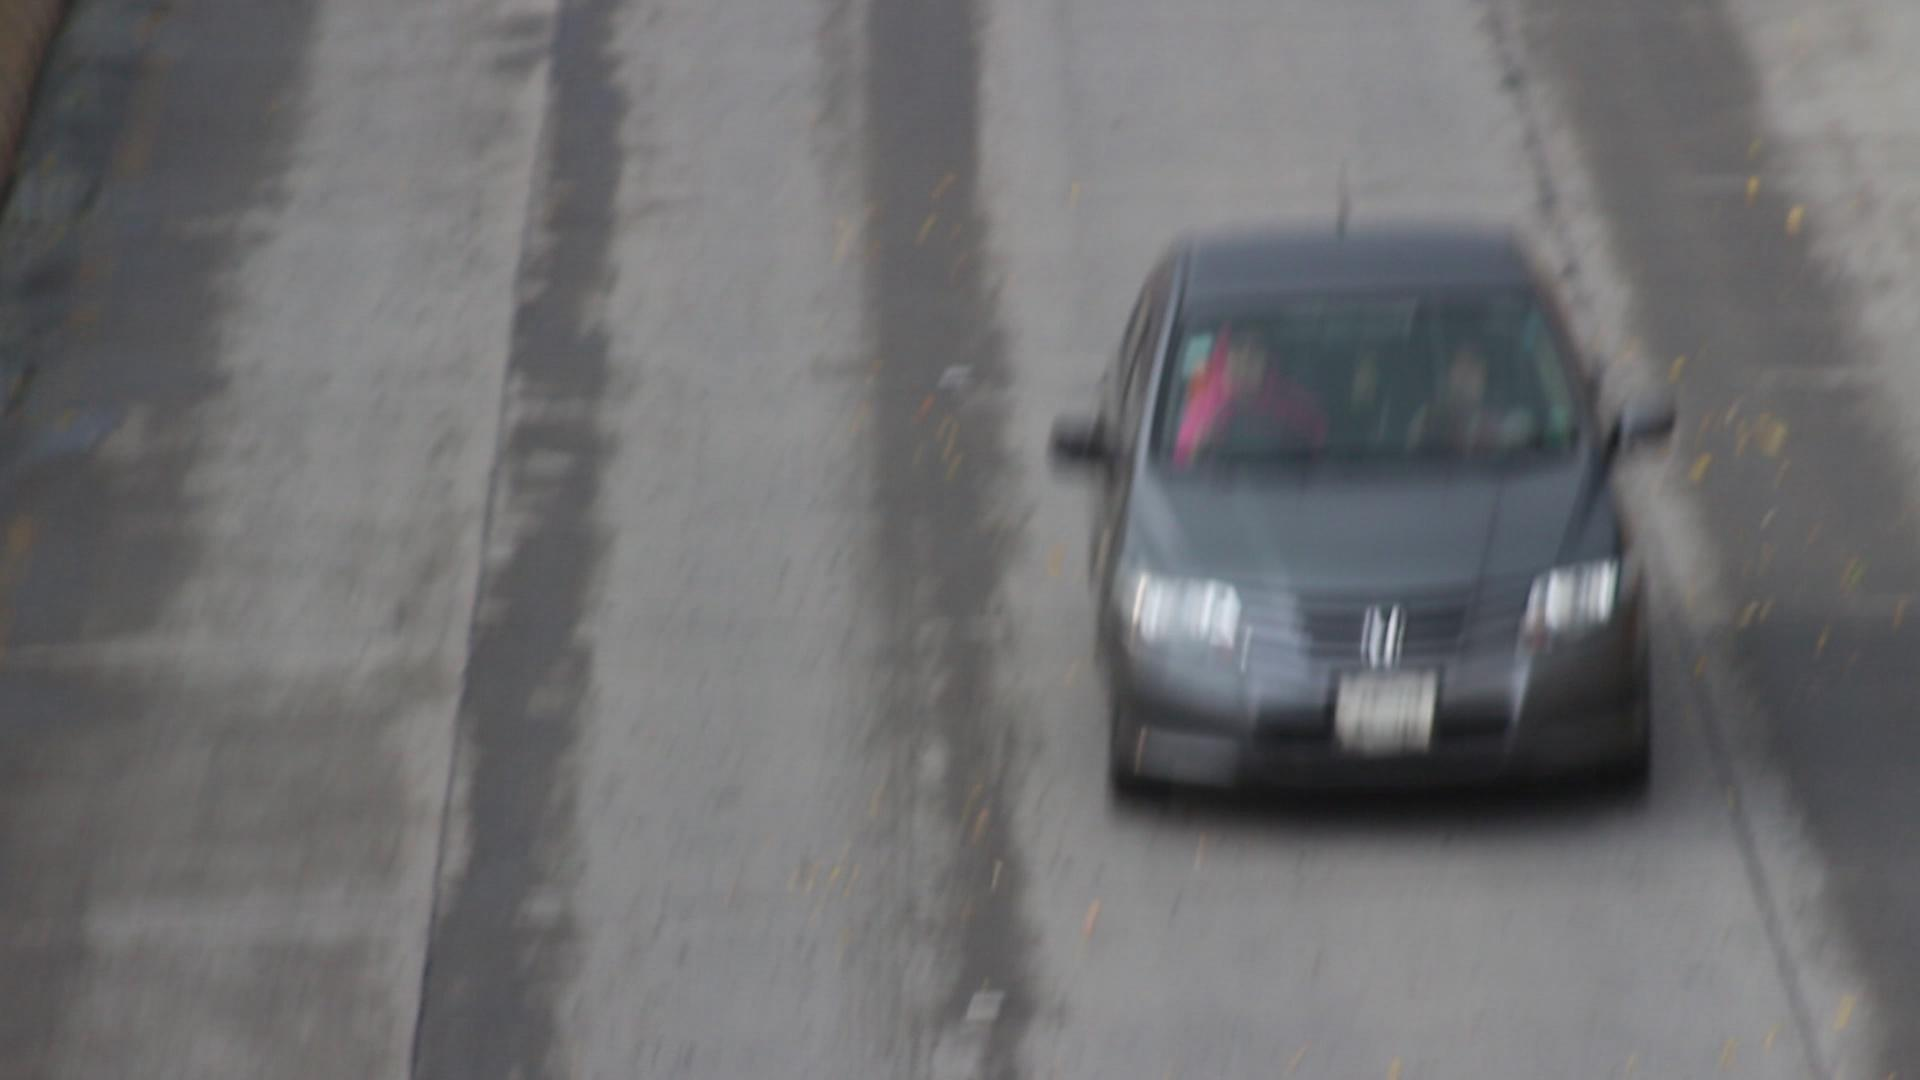windshield: (1134, 260, 1610, 480)
